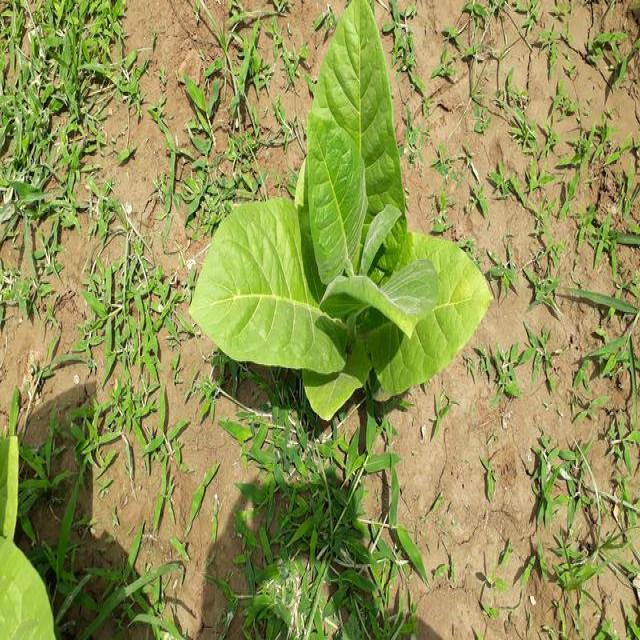crop: (198, 4, 482, 416), (0, 436, 58, 640)
